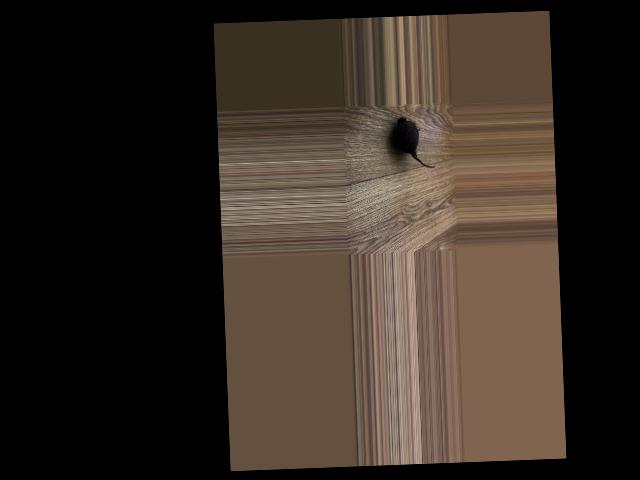beet: (393, 117, 434, 170)
